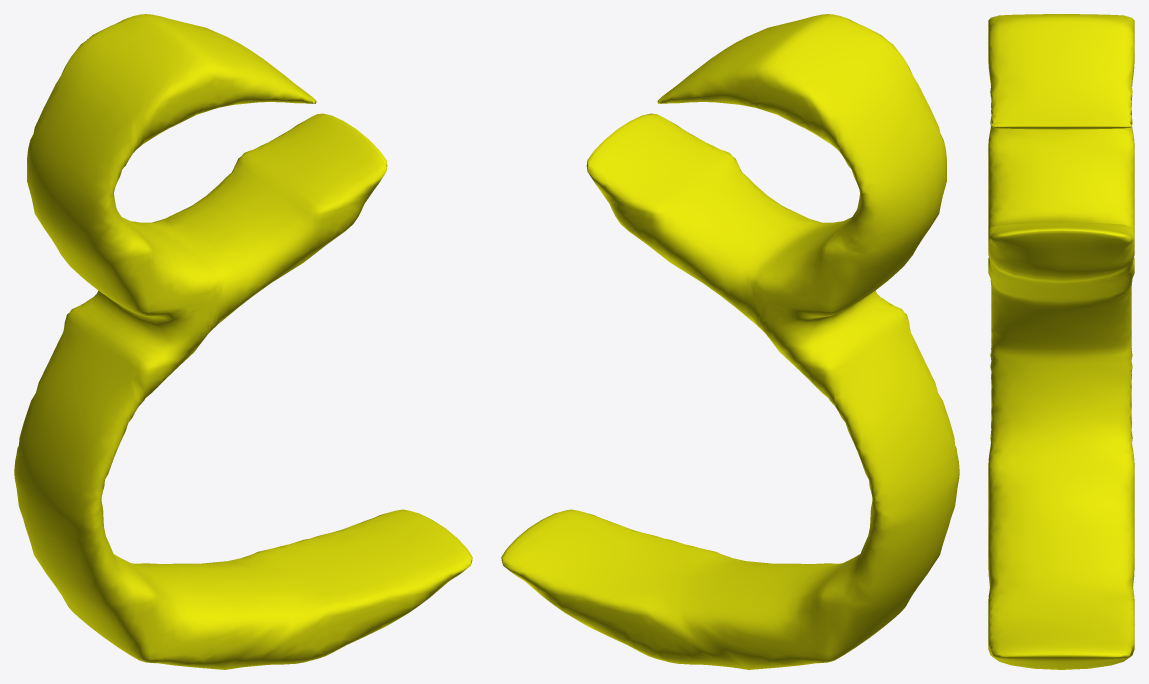
The picture shows the model from 3 angles, left to right: view 1: azimuth 30°, elevation 25°; view 2: azimuth 150°, elevation 25°; view 3: azimuth 270°, elevation 25°; orthographic projection. The views are drawn at different scales.
Parts seen in each view (by area): view 1: char_1; view 2: char_1; view 3: char_1.
Part boxes in pixels (<box>): char_1: <box>14,14,472,669</box>; char_1: <box>501,14,959,669</box>; char_1: <box>988,14,1134,669</box>.
Size of the model in its own units: 5.79 by 8.76 by 1.98.
